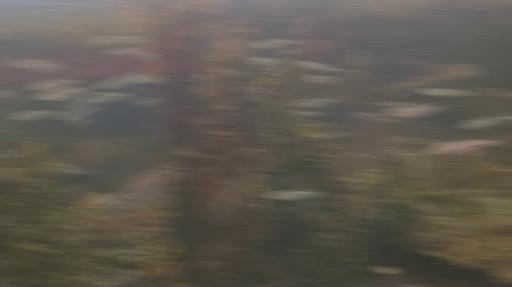Fish: (95, 167, 180, 211), (100, 72, 161, 88), (428, 139, 497, 153), (52, 163, 95, 185), (385, 102, 440, 117), (37, 87, 86, 100), (460, 116, 511, 128), (294, 96, 345, 107), (60, 105, 97, 120), (32, 79, 77, 90), (419, 88, 474, 97), (355, 112, 398, 123), (11, 110, 58, 120), (269, 191, 320, 200), (93, 37, 144, 46), (297, 61, 342, 71), (84, 92, 129, 102), (11, 59, 56, 68), (251, 39, 292, 48), (134, 52, 161, 63), (105, 47, 142, 55), (34, 64, 65, 72), (63, 100, 94, 108), (380, 101, 421, 107), (253, 57, 280, 66), (306, 75, 335, 83), (291, 110, 324, 117), (135, 75, 161, 83), (137, 96, 160, 105), (196, 74, 211, 83), (70, 119, 89, 126), (229, 70, 248, 77), (326, 131, 347, 137), (0, 90, 13, 97)
